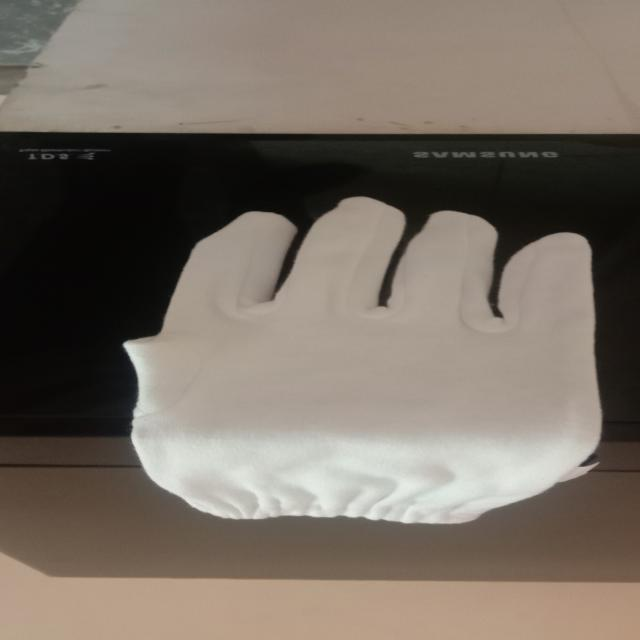gloved_hand: (109, 193, 604, 532)
